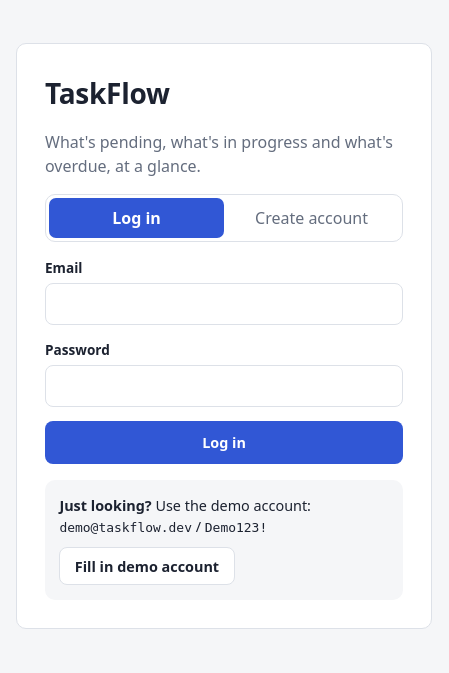
Test: AuthPage › shows the server message when the credentials are wrong, and stays on the login screen
Type "me@example.com" into the field labelled "Email". click: [224, 304]
box: x1=45 y1=283 x2=403 y2=325
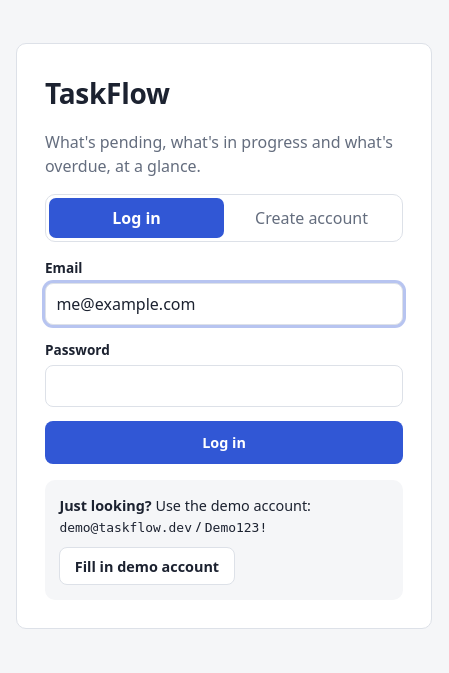
Type "wrong" into the password field labelled "Password". click: [224, 386]
box: x1=45 y1=365 x2=403 y2=407
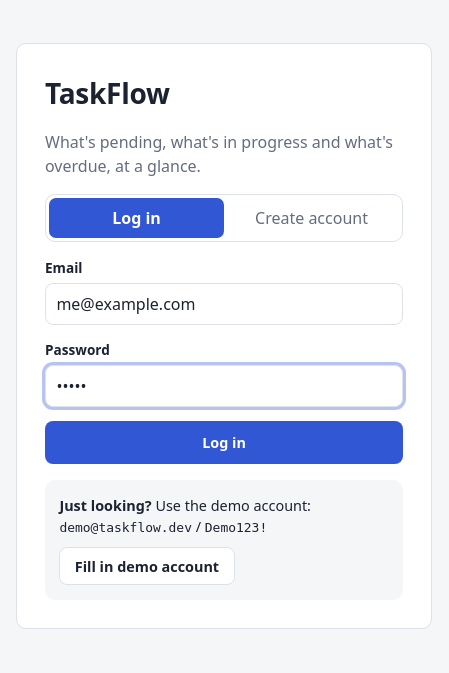
Click the button "Log in". click: [224, 443]
box: x1=45 y1=421 x2=403 y2=464
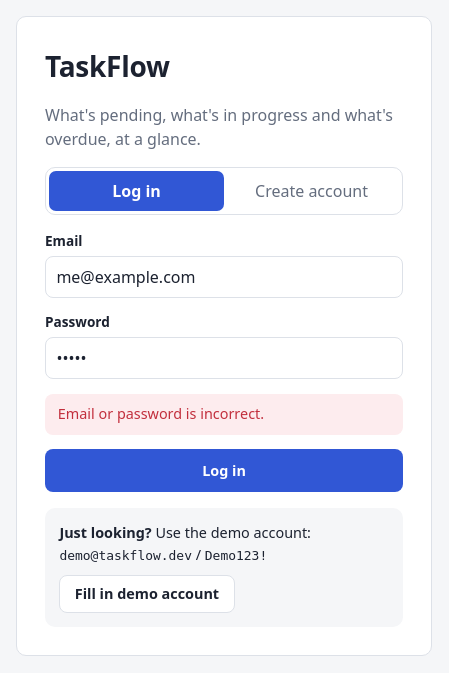
Check: the message reads "Email or password is incorrect.", box x1=58 y1=404 x2=264 y2=423
